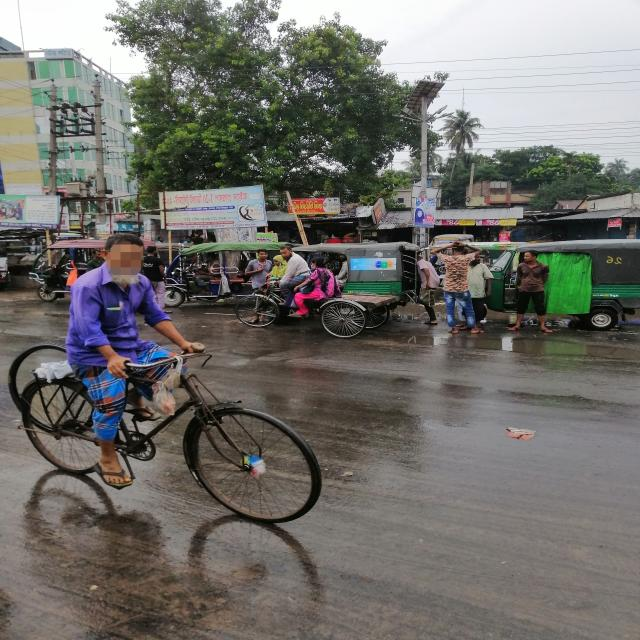Bicycle: (0, 332, 368, 521), (202, 286, 394, 336)
CNG: (459, 219, 640, 352)
Easybike: (236, 238, 414, 342), (146, 230, 314, 332)
